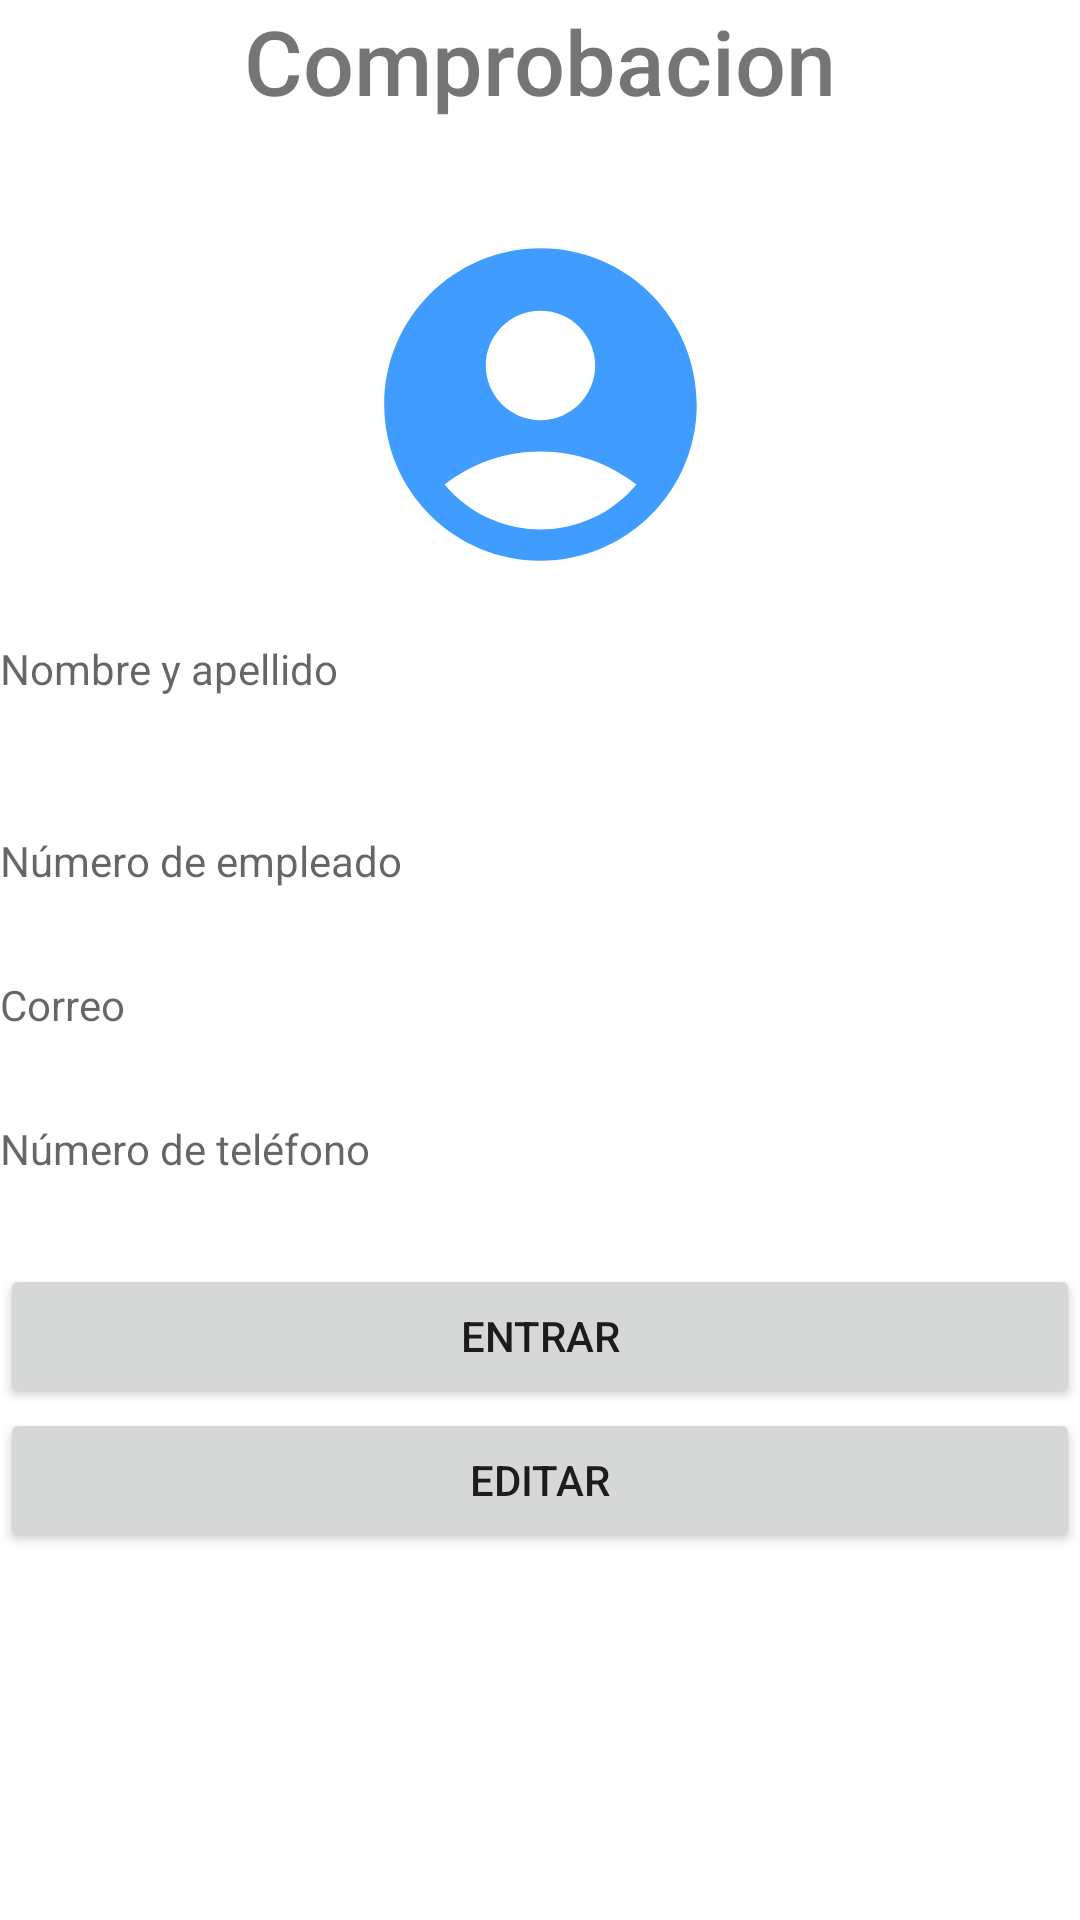

Screen size 1080 x 1920. Icon name, then its box in pixels as (x1, y1, x2, y2):
account circle: (384, 248, 697, 561)
